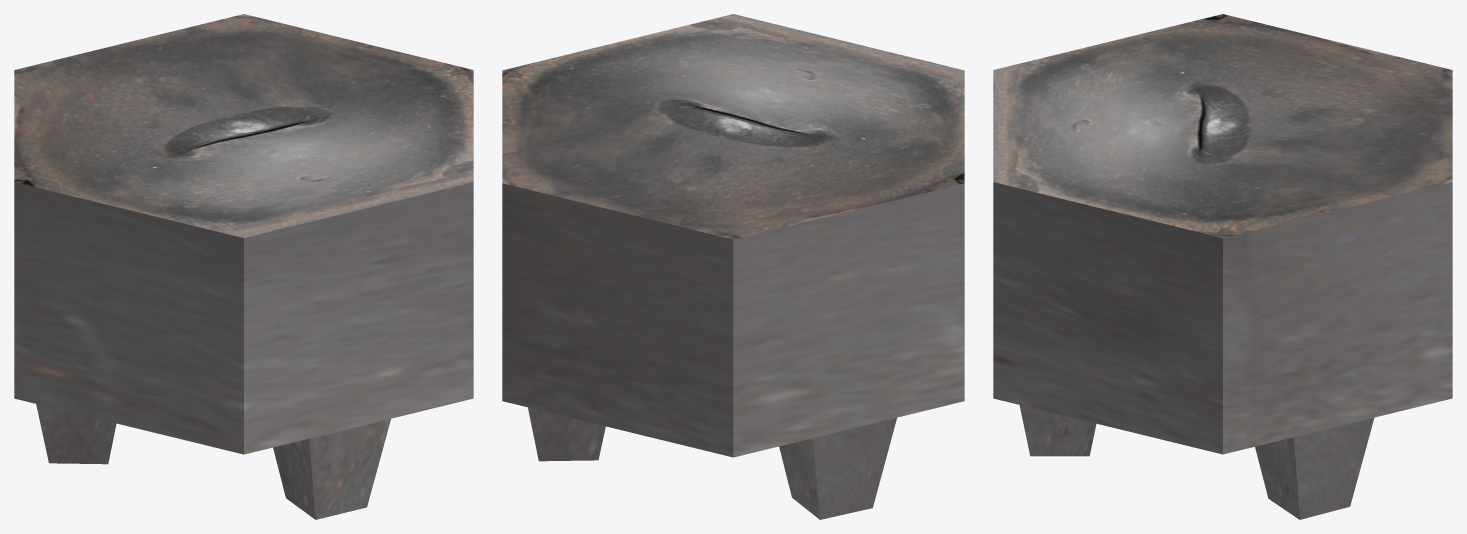
The model's file is Prop_SM_DutchOven.fbx.
The picture shows the model from 3 angles, left to right: view 1: azimuth 30°, elevation 25°; view 2: azimuth 150°, elevation 25°; view 3: azimuth 270°, elevation 25°; orthographic projection.
Visible parts, largest first — view 1: DutchOven; view 2: DutchOven; view 3: DutchOven.
Part boxes in pixels (left/top/right/bottom): DutchOven: left=14, top=14, right=473, bottom=519; DutchOven: left=502, top=14, right=964, bottom=519; DutchOven: left=993, top=14, right=1452, bottom=519.
Size of the model in its own units: 0.4146 by 0.2737 by 0.359.
